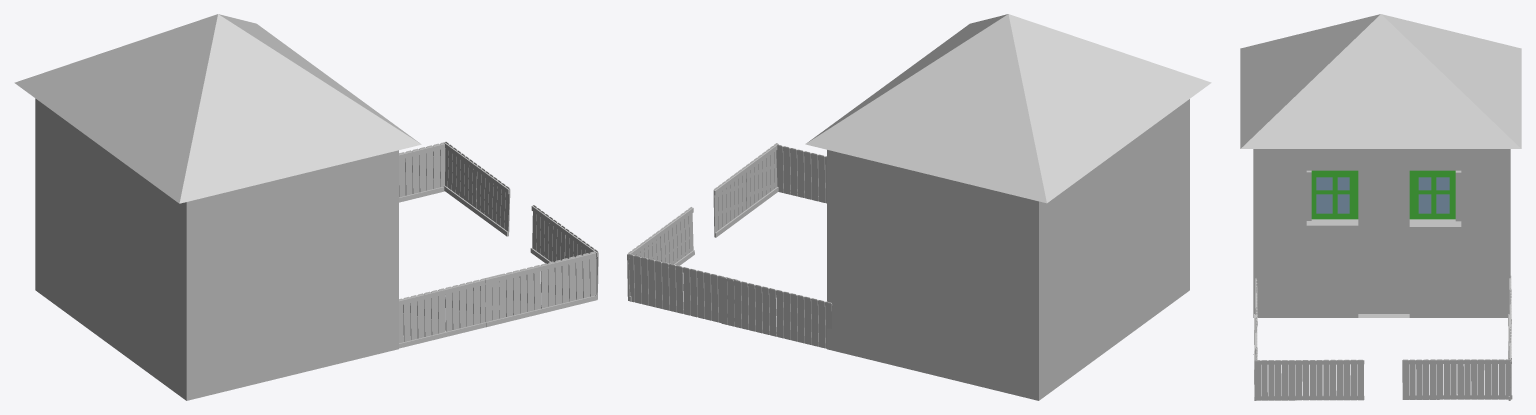
Rendered from haus3 mit vorgarten.fbx.
The picture shows the model from 3 angles, left to right: view 1: azimuth 30°, elevation 25°; view 2: azimuth 150°, elevation 25°; view 3: azimuth 270°, elevation 25°; orthographic projection. The views are drawn at different scales.
Parts seen in each view (by area): view 1: Haus; view 2: Haus; view 3: Haus.
Boxes of the visible parts, box(x1,y1,x2,y2) form: Haus: box(14, 14, 598, 400); Haus: box(627, 14, 1211, 400); Haus: box(1240, 14, 1521, 400).
Size of the model in its own units: 1174 by 1754 by 1200.
